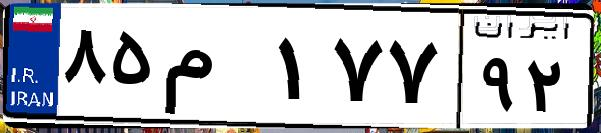1: (270, 28, 330, 110)
2: (525, 38, 570, 115)
5: (110, 28, 158, 98)
7: (385, 28, 445, 110), (330, 28, 385, 110)
8: (57, 26, 110, 100)
9: (475, 38, 525, 113)
م: (158, 20, 270, 120)
